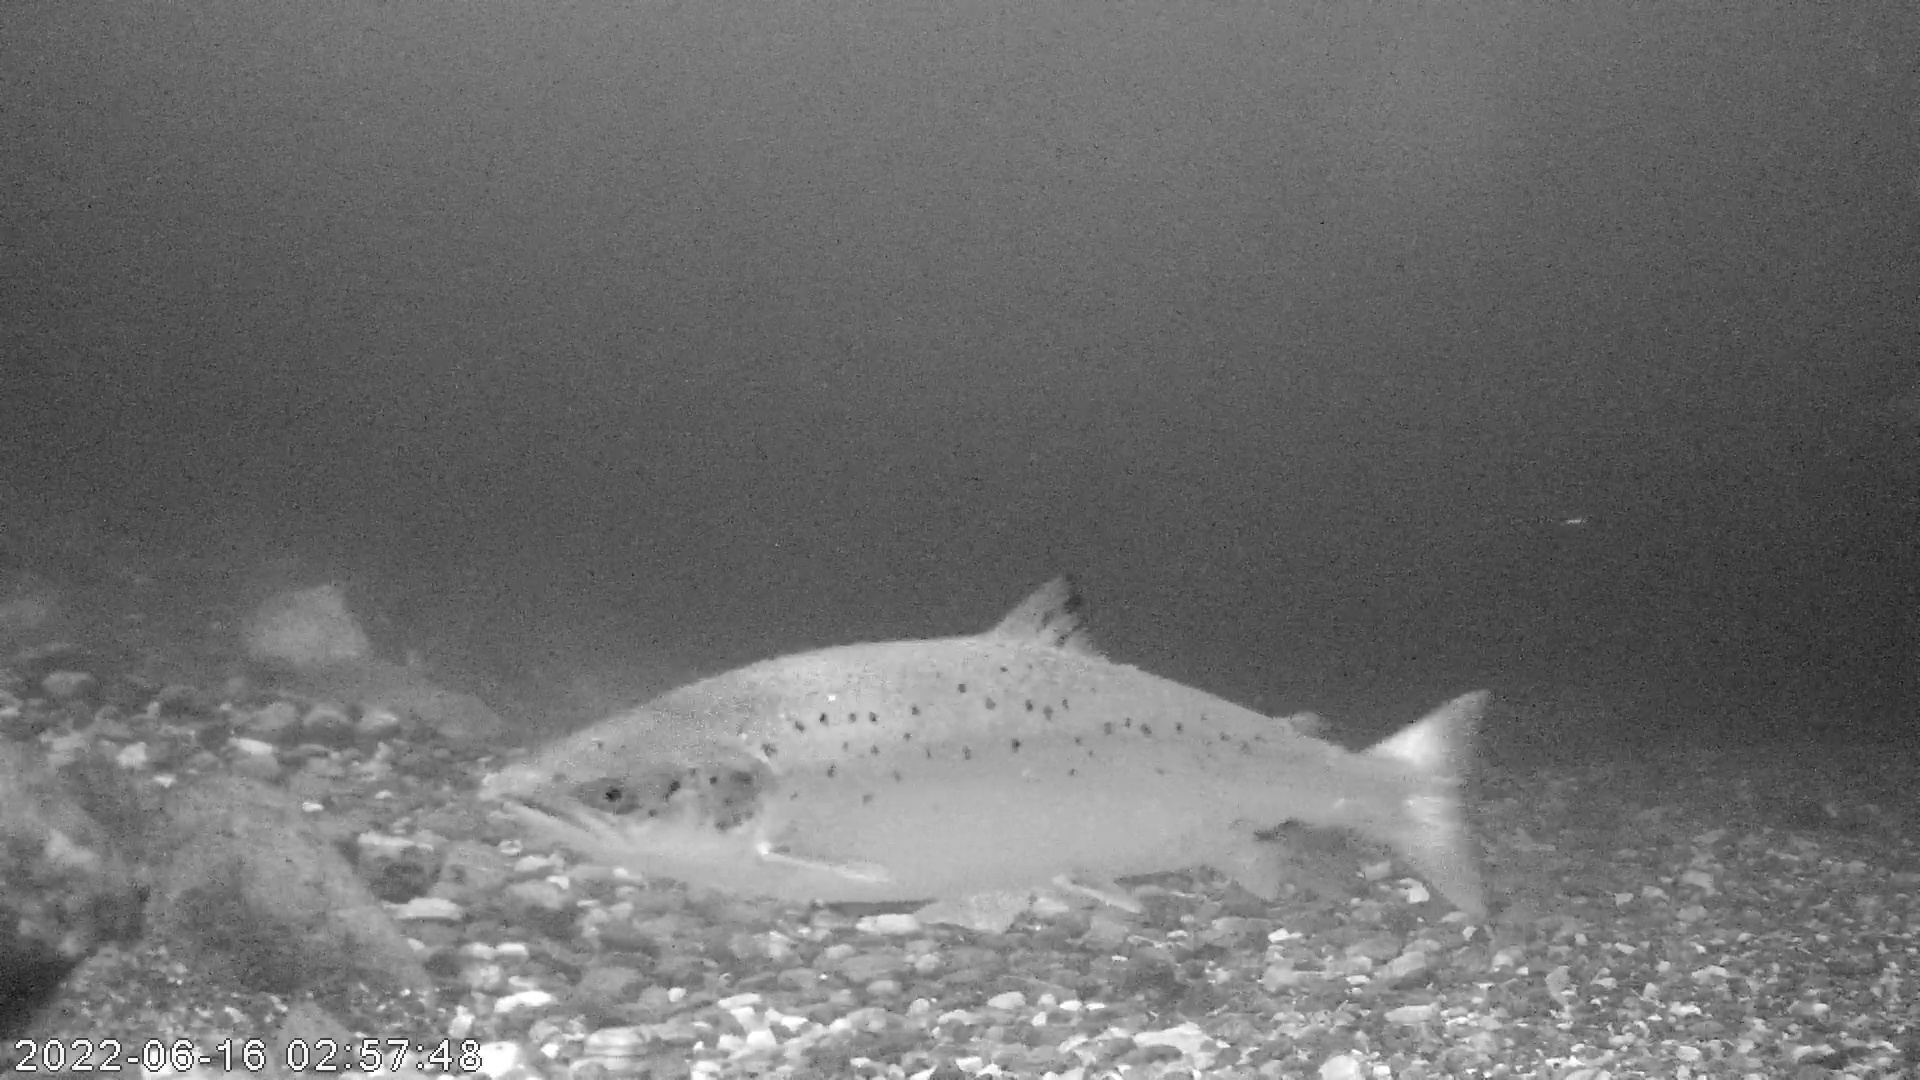salmon: (491, 568, 1497, 924)
